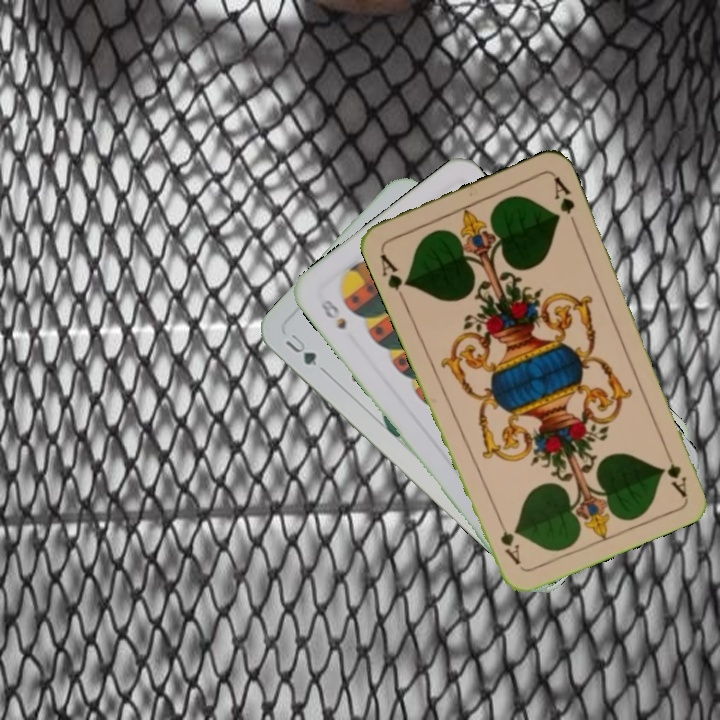GA: (376, 247, 413, 303), (659, 442, 690, 499)
GU: (281, 329, 320, 369)
S8: (316, 295, 349, 332)
